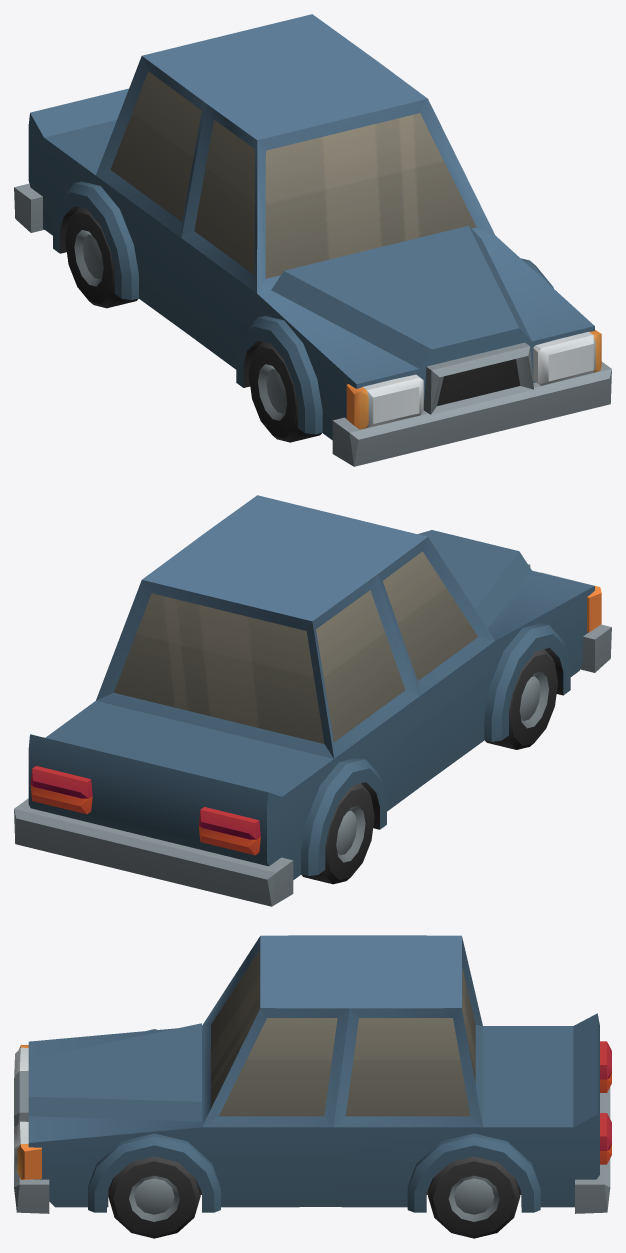
The model's file is car_sedan.glb.
3 views of the same model, one above another, from view 1: azimuth 30°, elevation 25°; view 2: azimuth 150°, elevation 25°; view 3: azimuth 270°, elevation 25° (orthographic). The views are drawn at different scales.
Parts seen in each view (by area): view 1: Cube.13729, car_sedan_wheel_rear_right, car_sedan_wheel_front_right; view 2: Cube.13729, car_sedan_wheel_rear_right, car_sedan_wheel_front_right; view 3: Cube.13729, car_sedan_wheel_front_left, car_sedan_wheel_rear_left.
Boxes of the visible parts, left/top/right/bottom form: Cube.13729: left=14, top=14, right=611, bottom=466; car_sedan_wheel_rear_right: left=65, top=207, right=138, bottom=308; car_sedan_wheel_front_right: left=249, top=341, right=321, bottom=442; Cube.13729: left=14, top=495, right=611, bottom=906; car_sedan_wheel_rear_right: left=301, top=783, right=374, bottom=884; car_sedan_wheel_front_right: left=485, top=649, right=557, bottom=749; Cube.13729: left=14, top=935, right=611, bottom=1213; car_sedan_wheel_front_left: left=108, top=1156, right=200, bottom=1238; car_sedan_wheel_rear_left: left=428, top=1156, right=520, bottom=1238.
Bounding box in the file's own units: 0.4189 × 0.3688 × 0.9381.
1 material, 1 textured.
